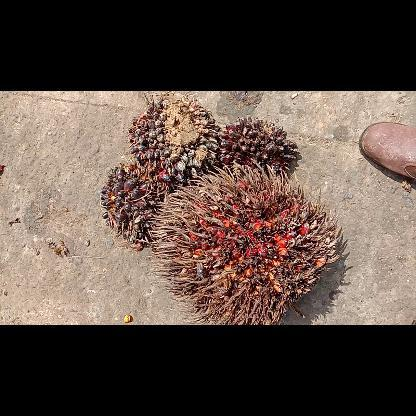TBS abnormal: (127, 95, 221, 190), (98, 162, 172, 252), (218, 115, 300, 184)
Terlalu masak: (145, 162, 343, 324)
